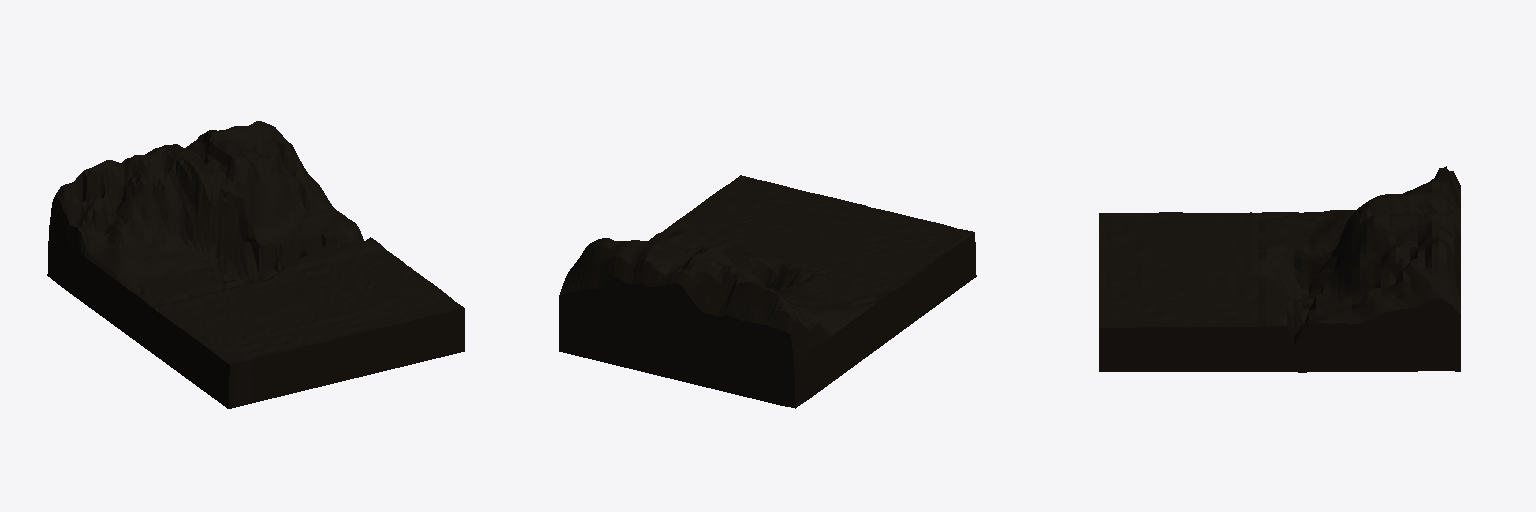
File: terreno3.obj
3 views of the same model, side by side, from view 1: azimuth 30°, elevation 25°; view 2: azimuth 150°, elevation 25°; view 3: azimuth 270°, elevation 25° (orthographic).
Visible parts, largest first — view 1: pCube3; view 2: pCube3; view 3: pCube3.
Boxes of the visible parts, x1,y1,x2,y2 form: pCube3: [47, 121, 464, 408]; pCube3: [559, 175, 976, 408]; pCube3: [1099, 166, 1460, 372].
Size of the model in its own units: 155 by 74.87 by 206.